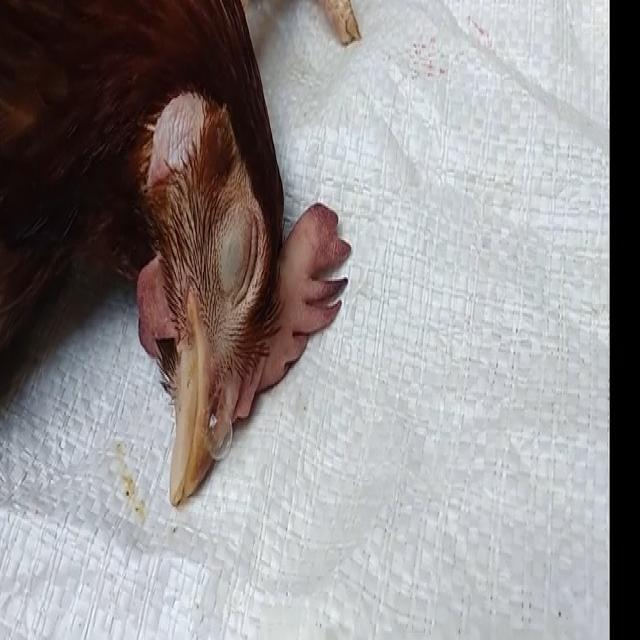bird flu: (0, 0, 384, 514)
